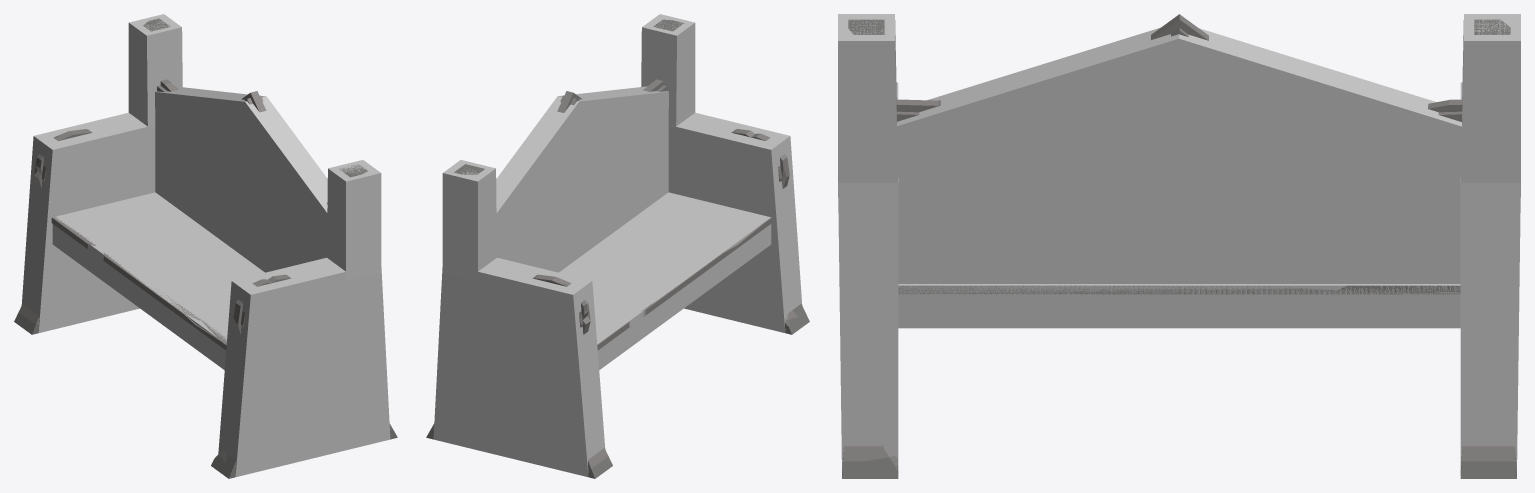
The model's file is SM_Prop_Bench_Seat_01.fbx.
The picture shows the model from 3 angles, left to right: view 1: azimuth 30°, elevation 25°; view 2: azimuth 150°, elevation 25°; view 3: azimuth 270°, elevation 25°; orthographic projection. The views are drawn at different scales.
Visible parts, largest first — view 1: SM_Prop_Bench_Seat_01_ConvexHulls, SM_Prop_Bench_Seat_01; view 2: SM_Prop_Bench_Seat_01_ConvexHulls, SM_Prop_Bench_Seat_01; view 3: SM_Prop_Bench_Seat_01_ConvexHulls, SM_Prop_Bench_Seat_01.
Boxes of the visible parts, x1,y1,x2,y2 form: SM_Prop_Bench_Seat_01_ConvexHulls: (21, 14, 390, 477); SM_Prop_Bench_Seat_01: (14, 18, 397, 478); SM_Prop_Bench_Seat_01_ConvexHulls: (433, 14, 802, 477); SM_Prop_Bench_Seat_01: (426, 19, 809, 478); SM_Prop_Bench_Seat_01_ConvexHulls: (838, 14, 1520, 470); SM_Prop_Bench_Seat_01: (842, 14, 1516, 478).
Bounding box in the file's own units: 72.79 × 162 × 114.
2 materials, 1 textured.
